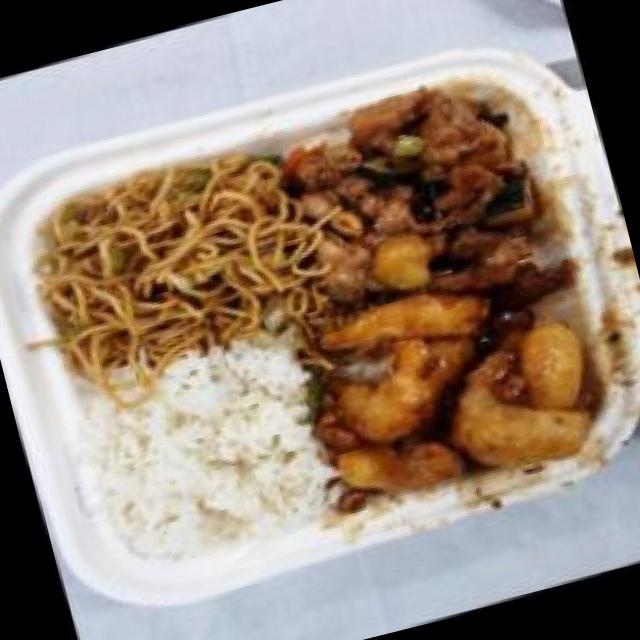Chow Mein: (14, 130, 335, 397)
Kung Pao Chicken: (293, 245, 622, 524), (273, 61, 578, 342)
White Steamed Rice: (66, 328, 347, 580)
